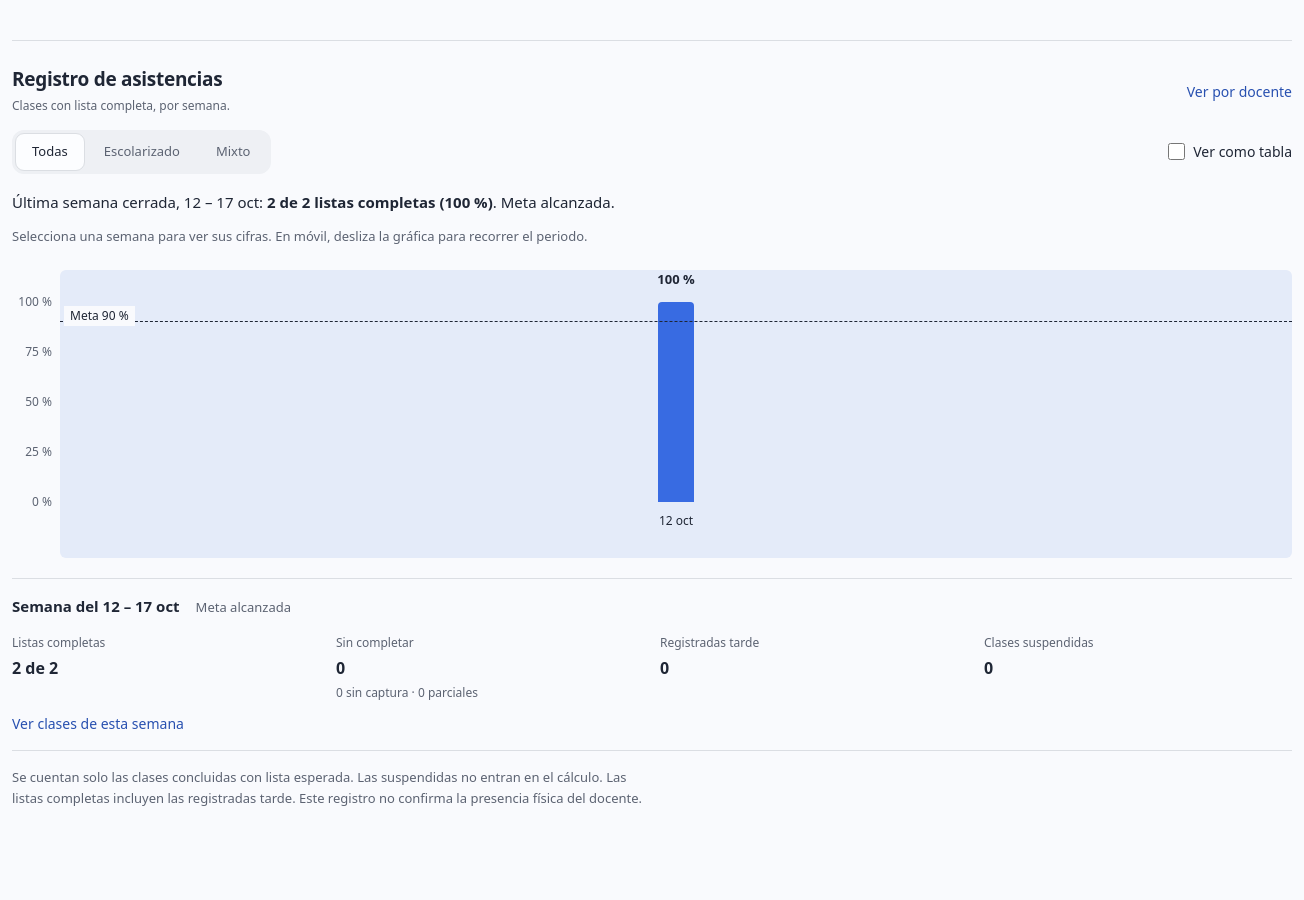
Test case: lectura del registro de asistencias › mantiene disponibles los filtros en una modalidad sin clases evaluables
The width and height of the screenshot is (1304, 900).
Click the button "Mixto" at coordinates (233, 152), box [199, 132, 268, 170]
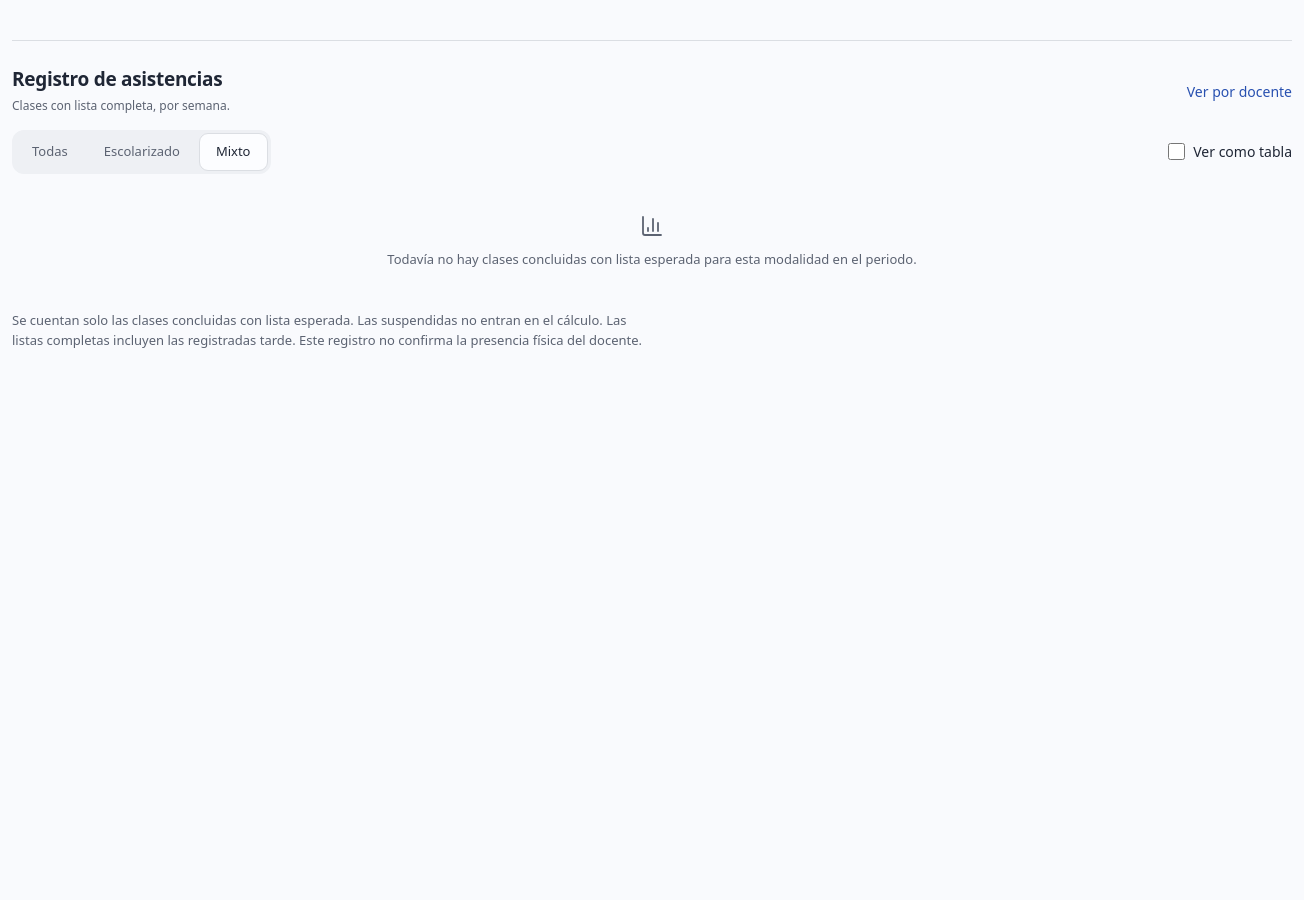
Result: the text "Todavía no hay clases concluidas" is shown at [387, 250, 917, 268]
Click the button "Todas" at coordinates (50, 152), box [15, 132, 85, 170]
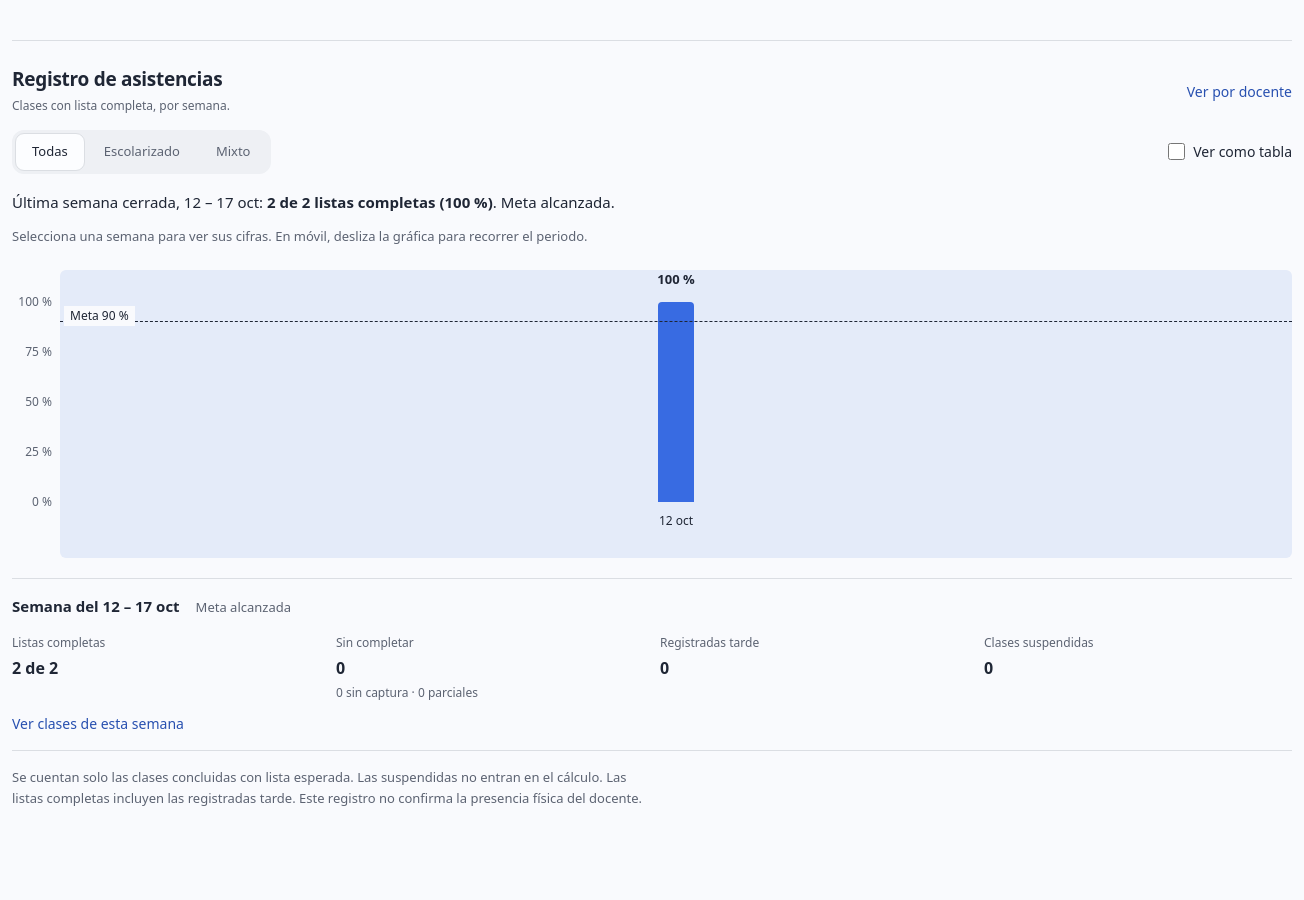
Result: the radio button labelled "100 % 12 oct" is shown at [60, 270, 1292, 558]
